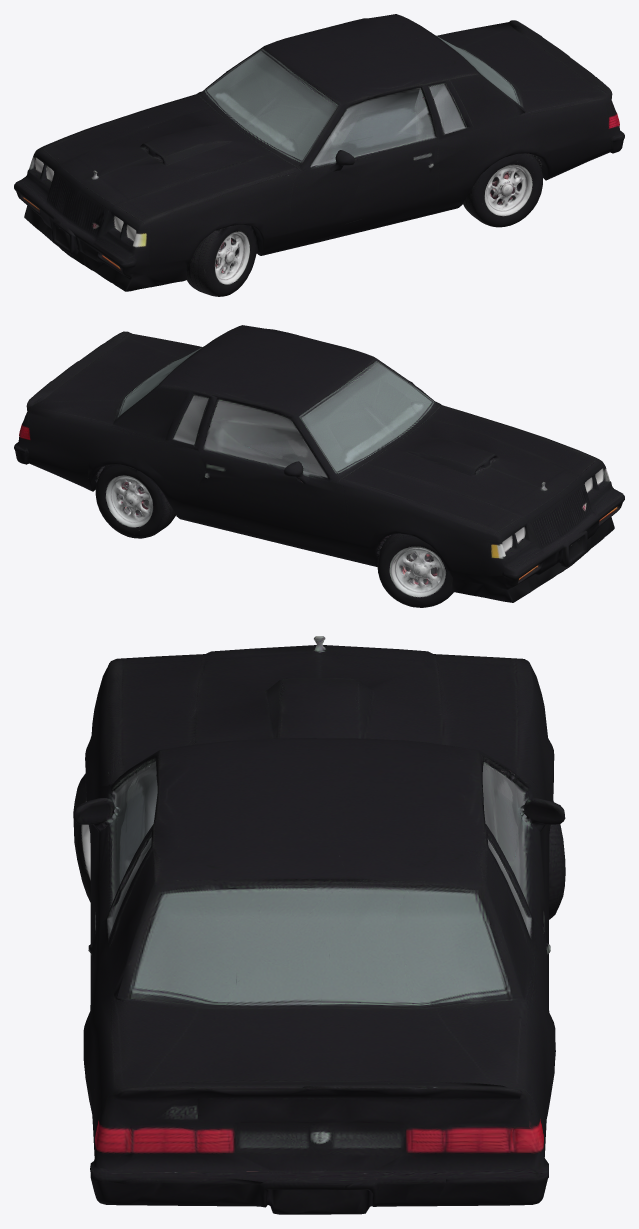
File: ee_gnx.glb
3 renders of one model, top to bottom at view 1: azimuth 30°, elevation 25°; view 2: azimuth 150°, elevation 25°; view 3: azimuth 270°, elevation 25°, orthographic. The views are drawn at different scales.
Bounding box in the file's own units: 1.91 × 0.563 × 0.7958.
Materials: 1 (1 with a texture image).
